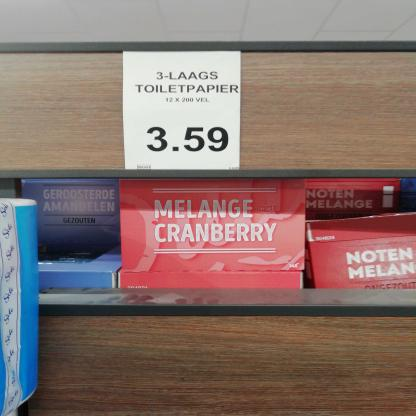prtg: (124, 52, 242, 171)
